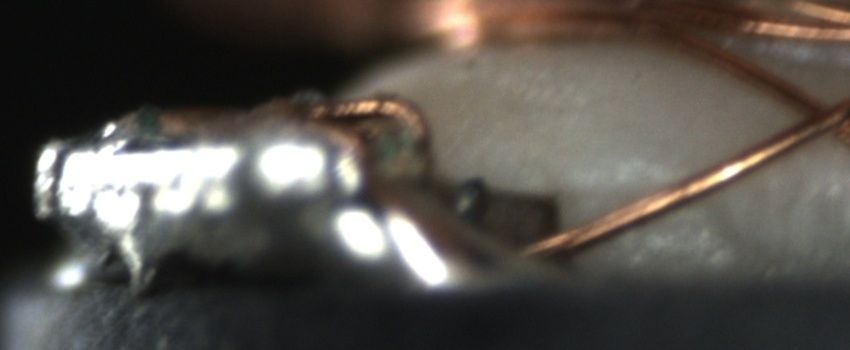CL: (777, 81, 848, 147)
DL: (582, 143, 849, 199)
TE: (292, 82, 436, 136)
